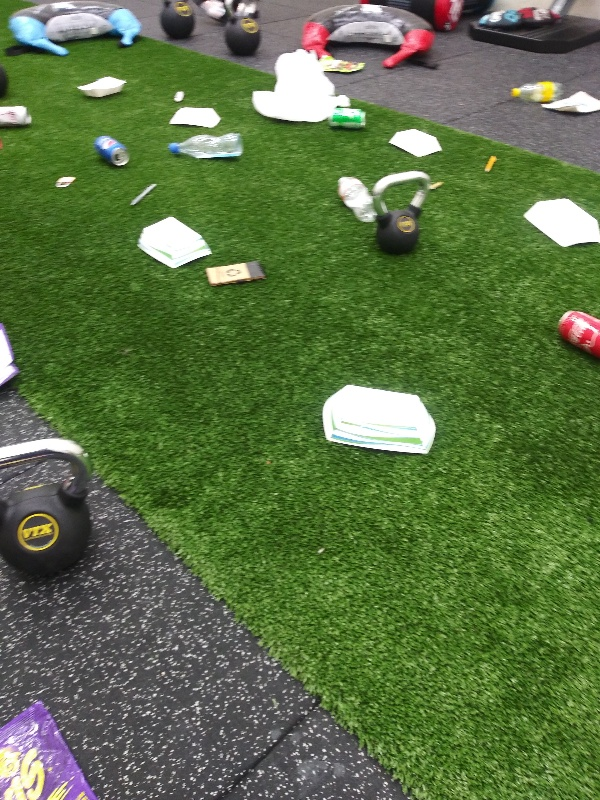bag: (1, 699, 102, 799), (535, 89, 600, 116), (1, 317, 19, 392), (318, 54, 367, 74)
bottle: (332, 171, 389, 227), (163, 127, 248, 163), (505, 78, 567, 105)
can: (549, 306, 600, 369), (91, 130, 134, 171), (1, 99, 38, 136), (327, 105, 369, 132)
plate: (317, 381, 441, 457), (519, 195, 600, 252), (134, 216, 215, 271), (385, 126, 445, 160), (74, 73, 129, 101), (166, 105, 224, 130)
